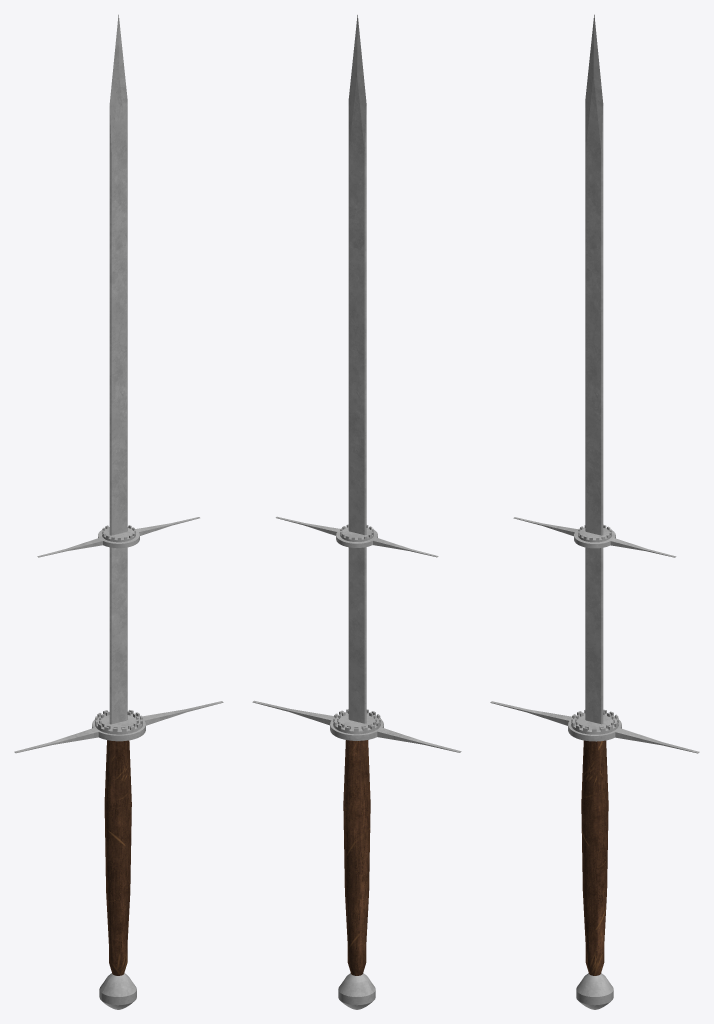
Rendered from Sword_05.fbx.
3 renders of one model, left to right at view 1: azimuth 30°, elevation 25°; view 2: azimuth 150°, elevation 25°; view 3: azimuth 330°, elevation 25°, orthographic.
Visible parts, largest first — view 1: Sword_05; view 2: Sword_05; view 3: Sword_05.
Part boxes in pixels (x1,y1,x2,y2): Sword_05: (14, 14, 223, 1009); Sword_05: (252, 15, 461, 1009); Sword_05: (490, 14, 699, 1009).
Size of the model in its own units: 14.21 by 65.05 by 3.19.
Materials: 4 (4 with a texture image).
